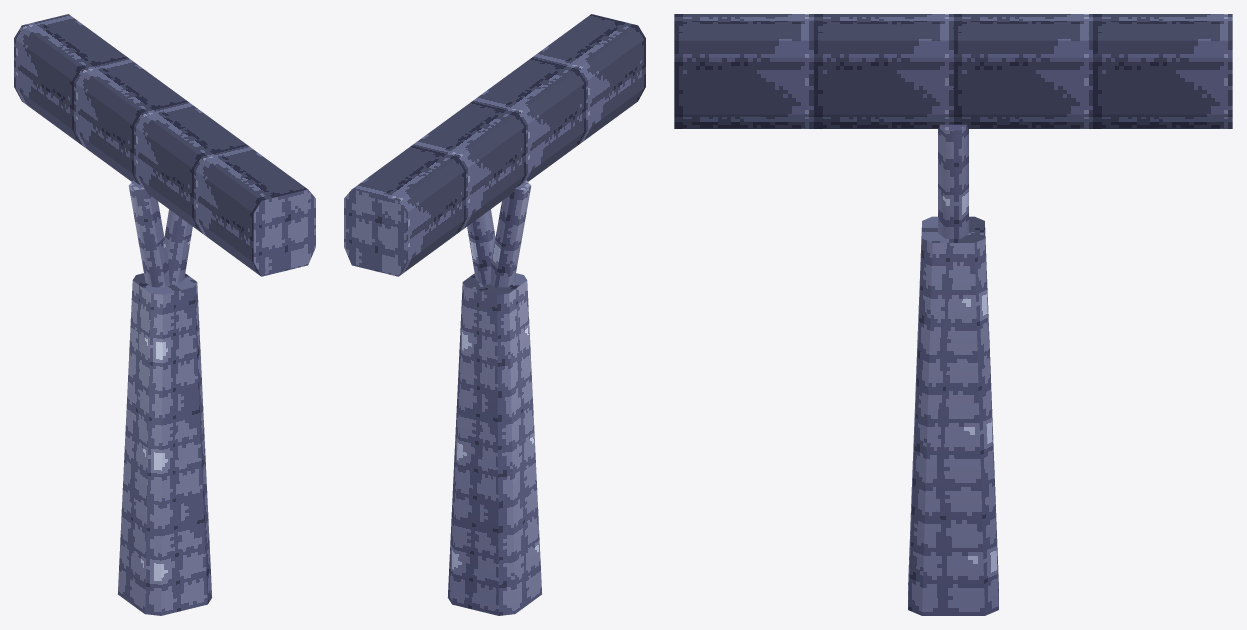
The model's file is cystreet.rail.glb.
3 views of the same model, side by side, from view 1: azimuth 30°, elevation 25°; view 2: azimuth 150°, elevation 25°; view 3: azimuth 270°, elevation 25° (orthographic). The views are drawn at different scales.
Parts seen in each view (by area): view 1: kit_beam; view 2: kit_beam; view 3: kit_beam.
Part boxes in pixels (box(x1,y1,x2,y2)): kit_beam: box(14, 14, 315, 615); kit_beam: box(344, 14, 645, 615); kit_beam: box(674, 14, 1232, 615).
Size of the model in its own units: 1.3 by 9 by 8.
Materials: 3 (3 with a texture image).
